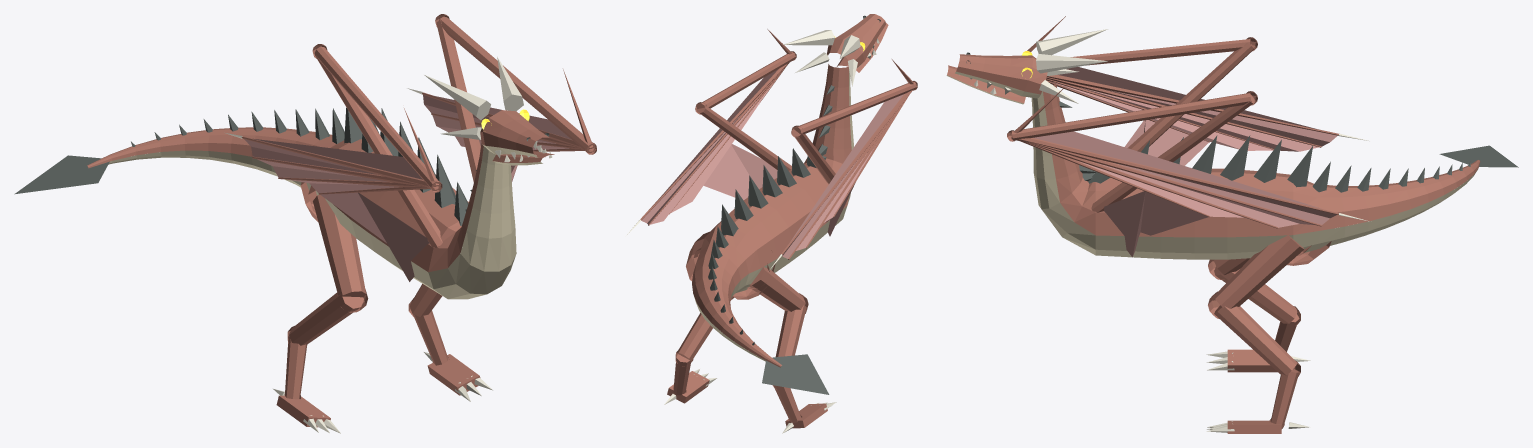
The model's file is dragons-and-wyverns-wyvern-perched-0883a5d9__36716.glb.
3 renders of one model, left to right at view 1: azimuth 30°, elevation 25°; view 2: azimuth 150°, elevation 25°; view 3: azimuth 270°, elevation 25°, orthographic. The views are drawn at different scales.
Parts seen in each view (by area): view 1: wyvern-perched; view 2: wyvern-perched; view 3: wyvern-perched.
Boxes of the visible parts, left/top/right/bottom form: wyvern-perched: left=14, top=14, right=596, bottom=433; wyvern-perched: left=625, top=14, right=917, bottom=433; wyvern-perched: left=946, top=16, right=1518, bottom=433.
Bounding box in the file's own units: 2.88 × 3.33 × 4.86.
